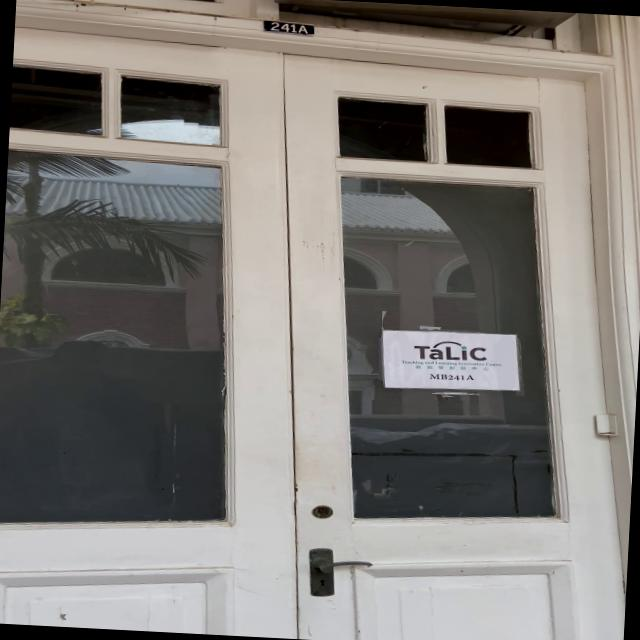room241a: (258, 17, 318, 40)
